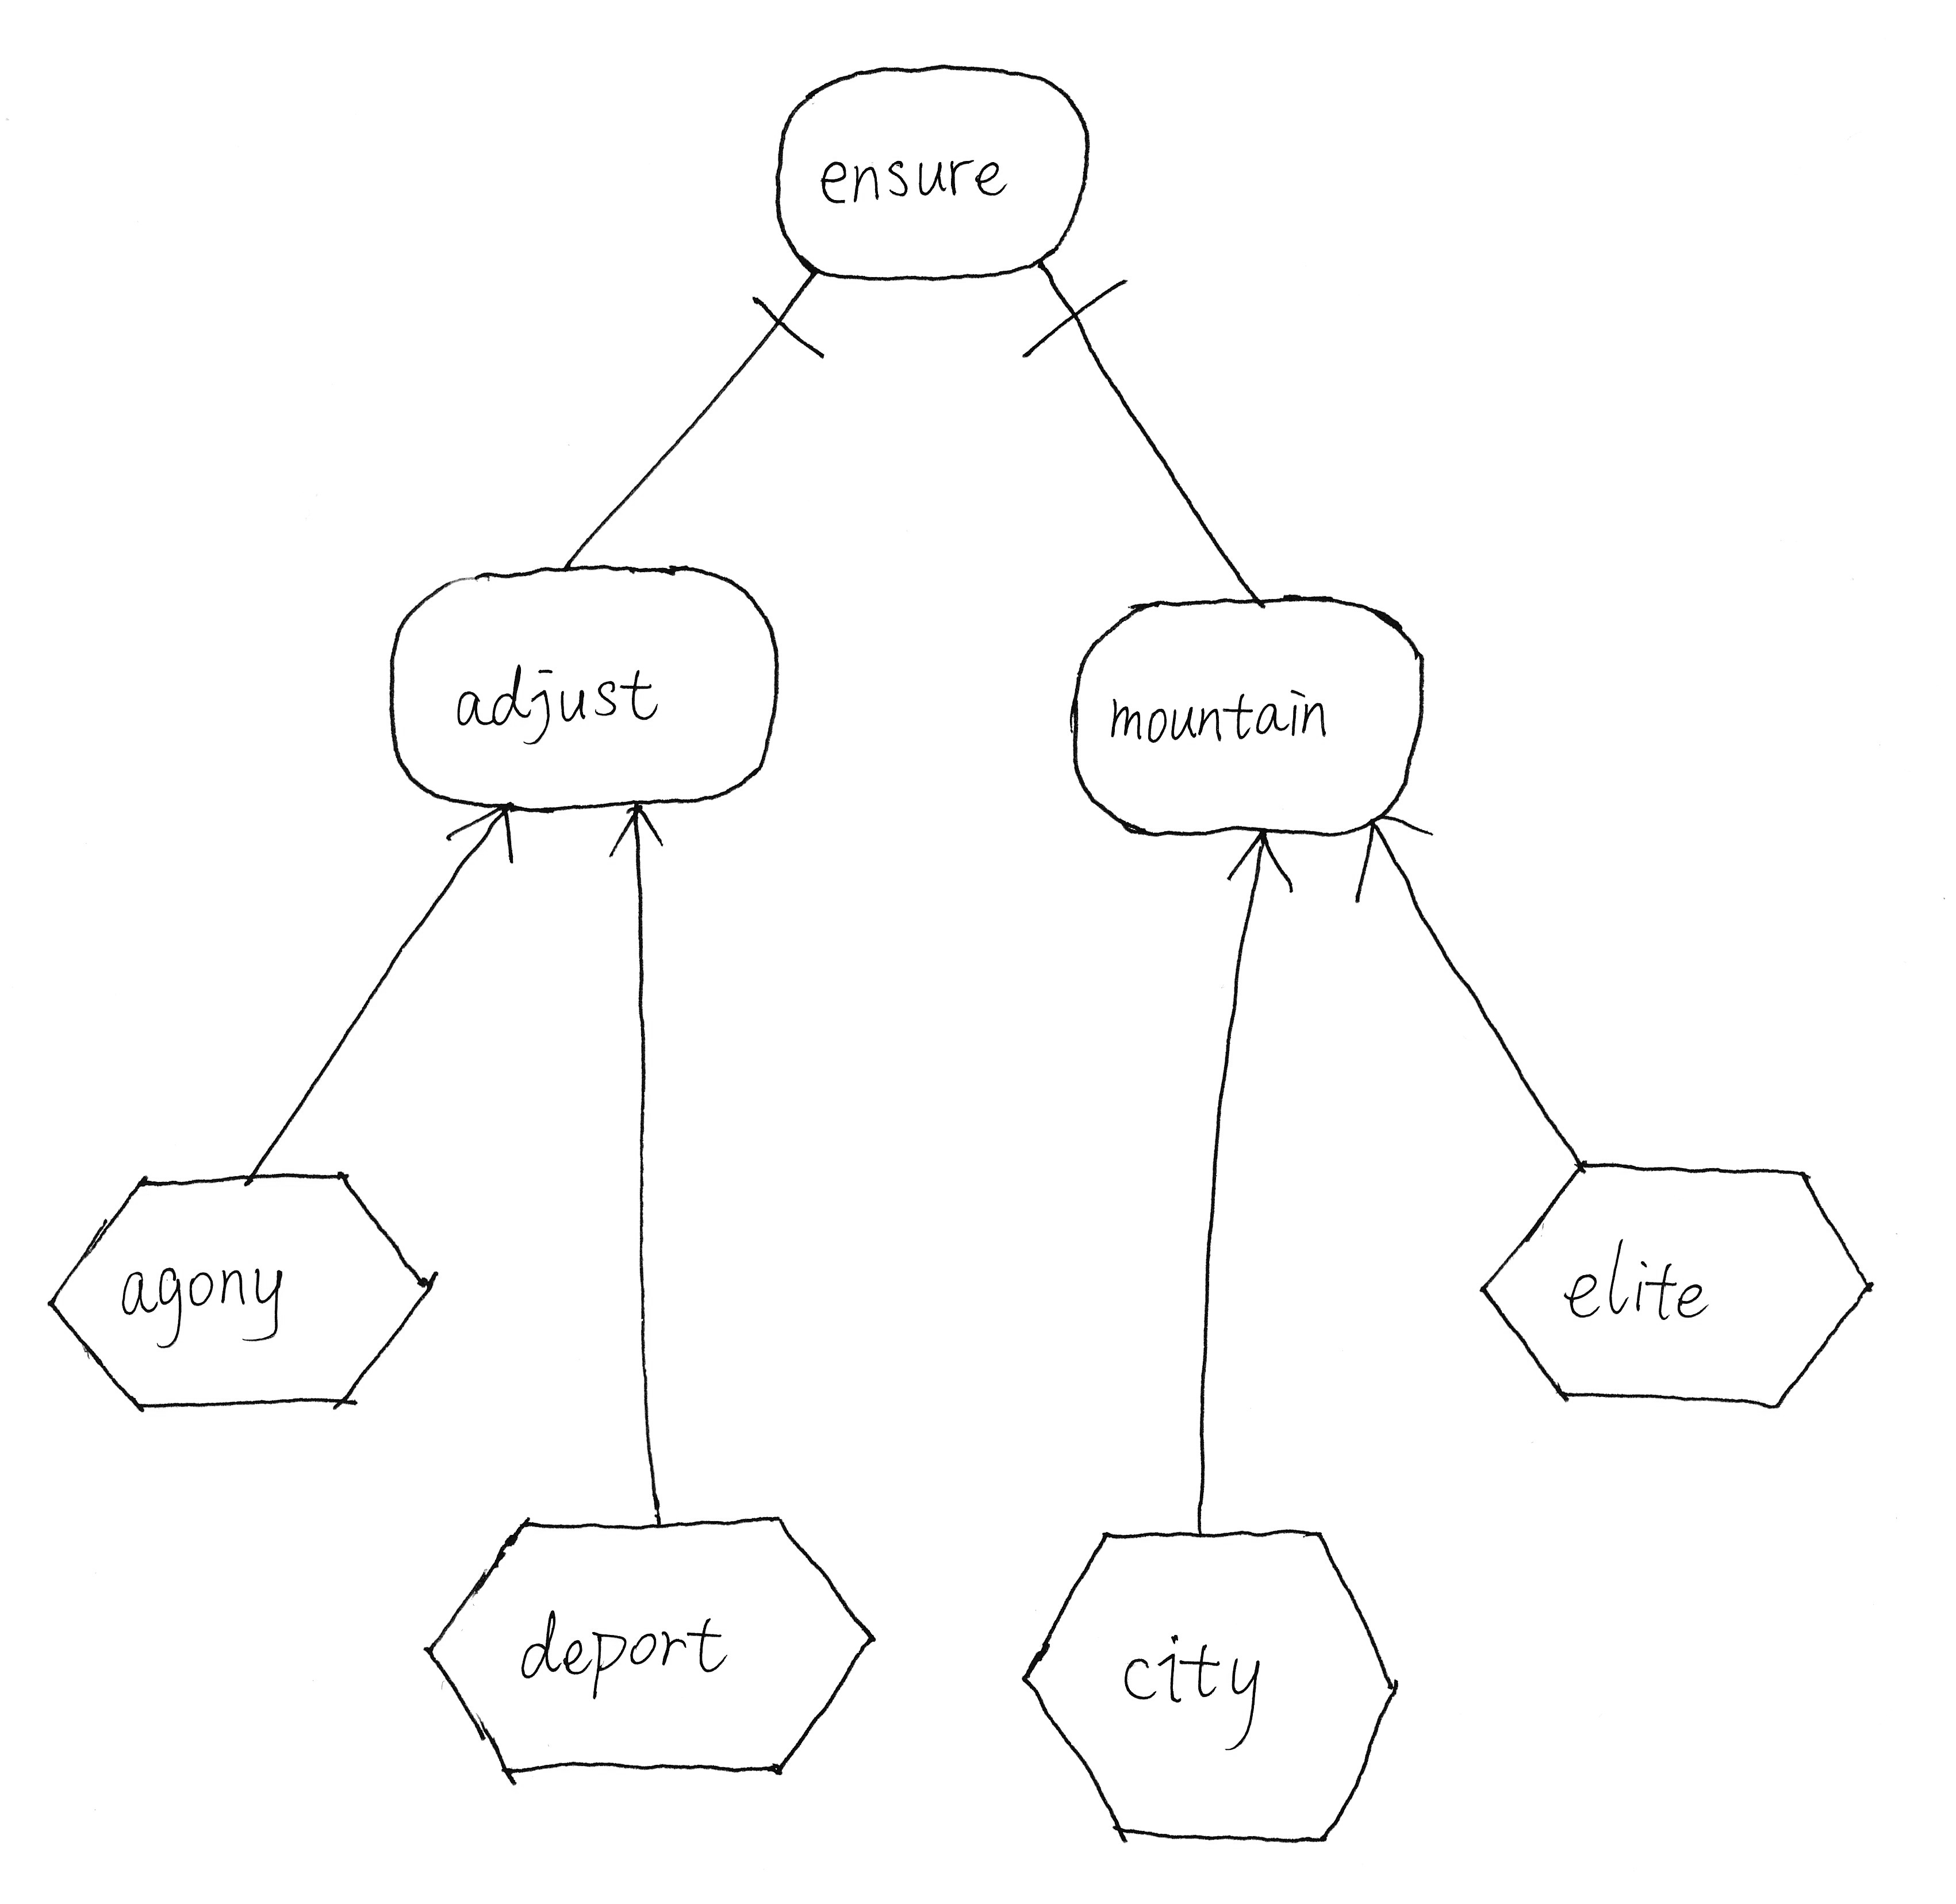and: (1008, 246, 1137, 370), (742, 264, 838, 369)
arrow: (1352, 793, 1444, 915), (1200, 811, 1310, 910), (437, 784, 531, 873), (597, 790, 679, 873)
goal: (363, 545, 805, 837), (1055, 578, 1455, 865), (753, 44, 1107, 300)
task: (1001, 1504, 1427, 1867), (403, 1490, 894, 1790), (1467, 1134, 1898, 1434), (33, 1151, 463, 1429)
